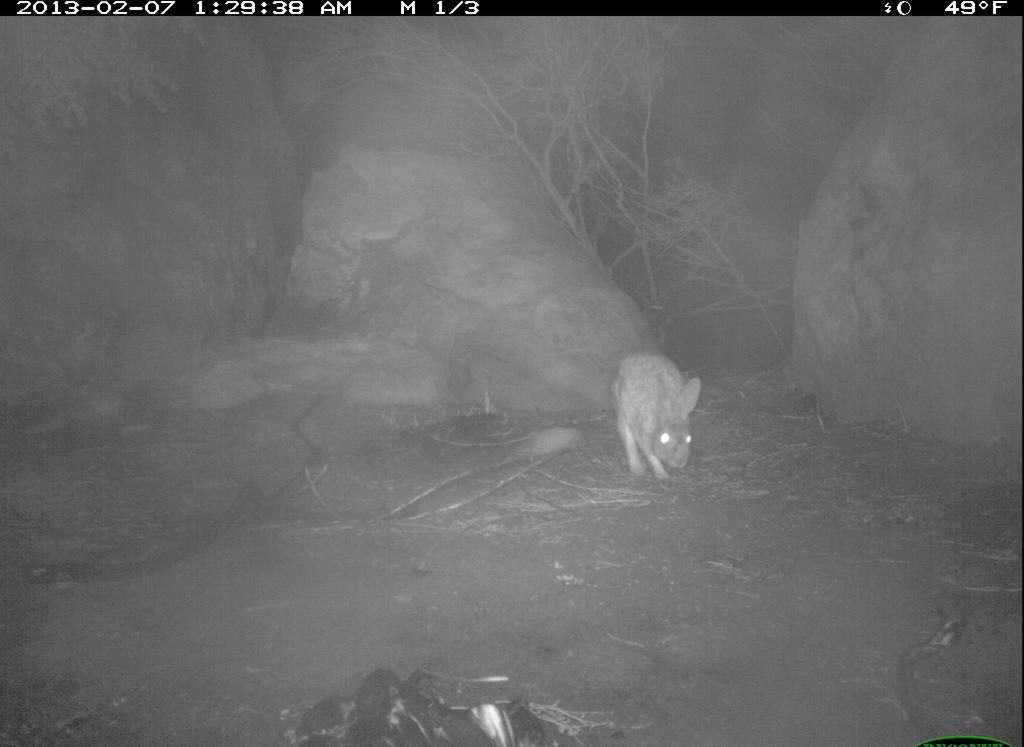rabbit: (606, 344, 721, 493)
